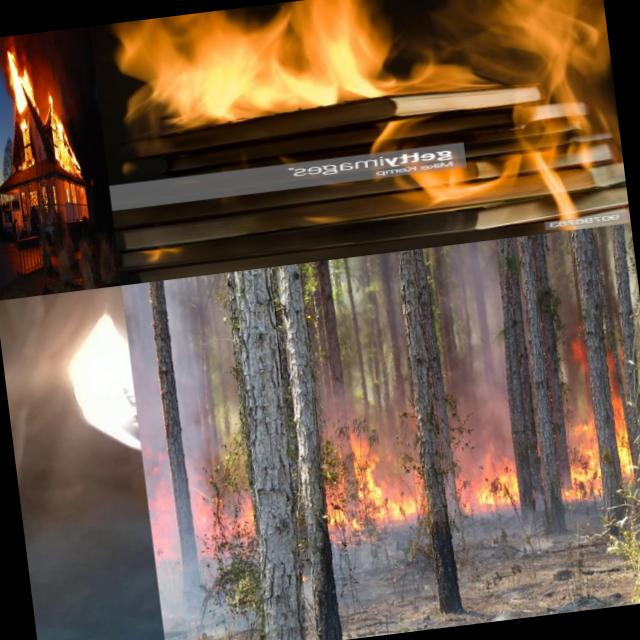fire: (89, 0, 610, 161), (45, 288, 142, 462), (350, 430, 413, 524), (470, 450, 519, 508), (566, 423, 600, 498), (146, 488, 179, 560), (187, 472, 219, 546), (48, 98, 80, 171), (8, 60, 36, 114), (17, 152, 36, 174), (19, 116, 31, 140), (70, 184, 78, 205), (64, 183, 70, 205), (79, 184, 84, 202)
smoke: (446, 240, 517, 452), (162, 274, 232, 459), (120, 282, 170, 490), (0, 36, 14, 108)
